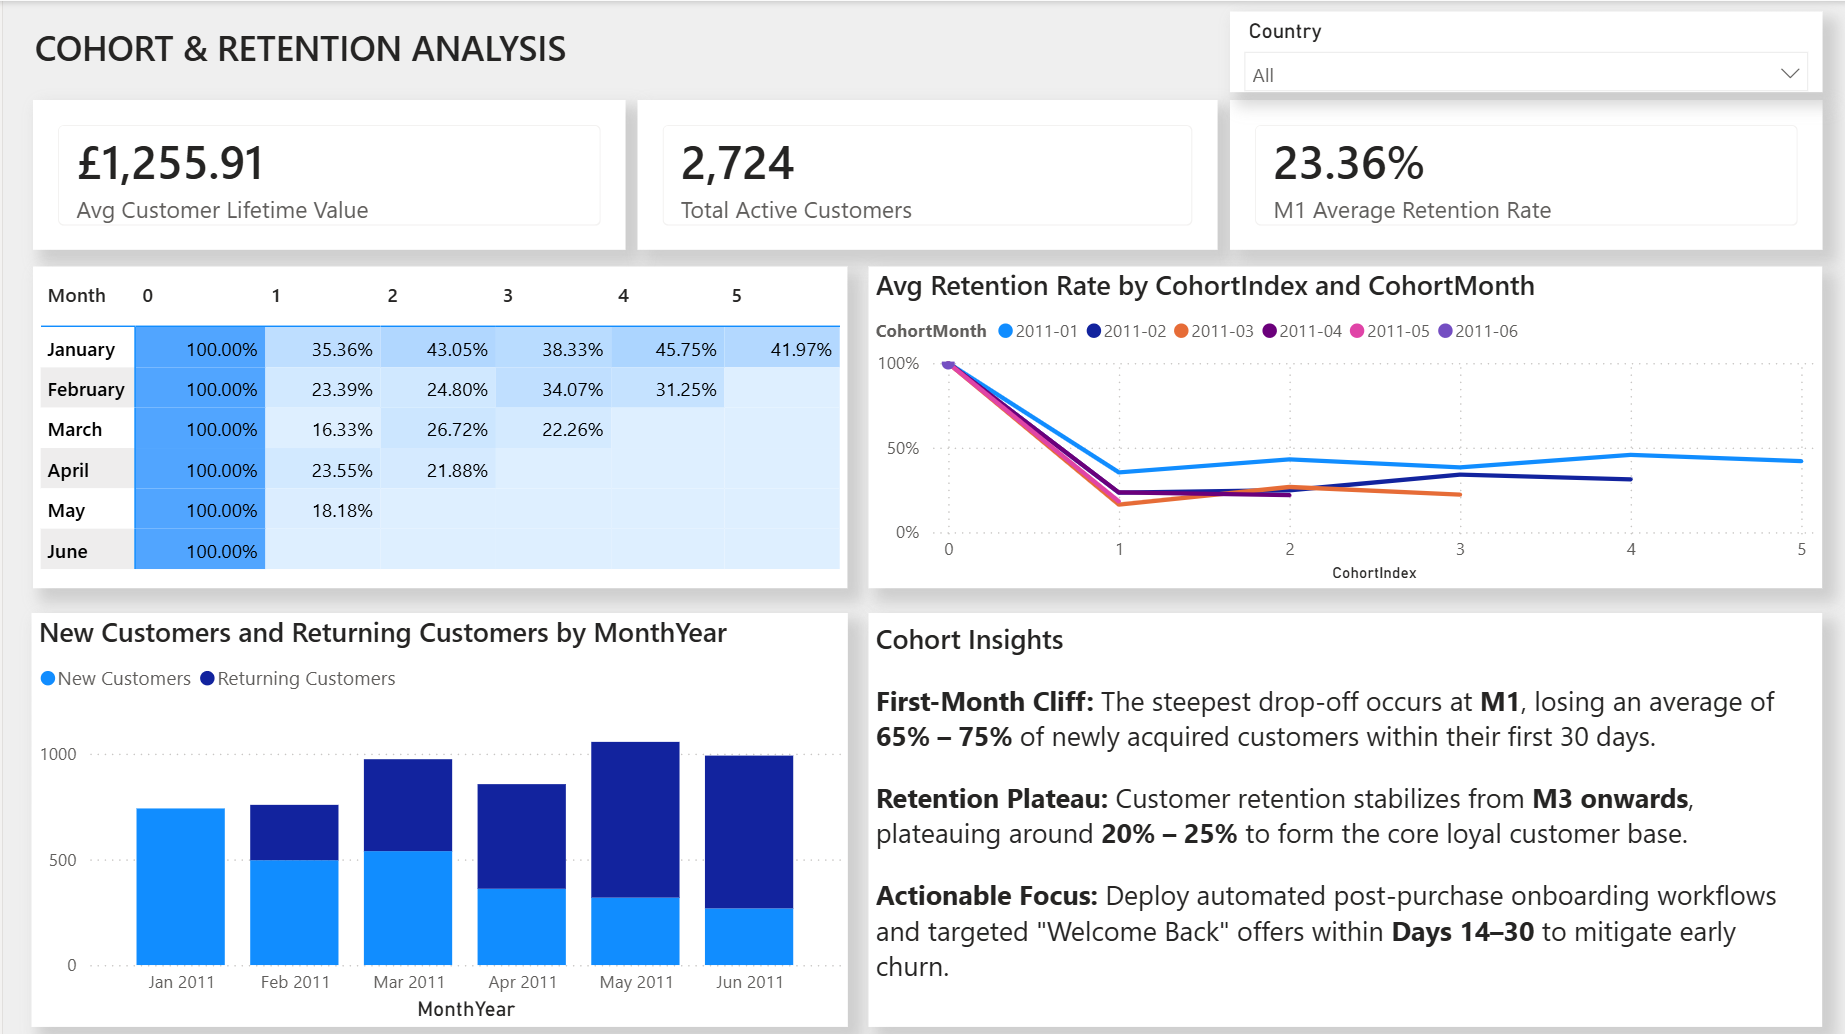

The page's visual inventory and layout, read from the dashboard file:
{"tool":"powerbi","page":{"name":"Cohort Analysis","canvas":[1280,720],"ordinal":3},"visuals":[{"type":"textbox","box":[10.9,10.9,401.6,49.4],"z":0},{"type":"cardVisual","fields":{"Data":["Measures Folder.Avg CLV"]},"box":[20.5,60.3,411.3,112.2],"z":1000},{"type":"cardVisual","fields":{"Data":["Measures Folder.Total Active Customers"]},"box":[440.2,60.3,402.8,112.2],"z":2000},{"type":"cardVisual","fields":{"Data":["Measures Folder.M1 Avg Retention"]},"box":[851.5,60.3,411.3,112.2],"z":3000},{"type":"pivotTable","fields":{"Columns":["Dim_Cohort.CohortIndex"],"Values":["Sum(Dim_Cohort.RetentionRate)"],"Rows":["Dim_Cohort.CohortMonth.Variation.Date Hierarchy.Month"]},"box":[20.5,184.5,565.6,223.1],"z":4000},{"type":"lineChart","fields":{"Category":["Dim_Cohort.CohortIndex"],"Y":["Measures Folder.Avg Retention Rate"],"Series":["Dim_Cohort.CohortMonth"]},"box":[600.6,184.5,662.1,223.1],"z":5000},{"type":"columnChart","fields":{"Category":["Dim_Date.MonthYear"],"Y":["Measures Folder.New Customers","Measures Folder.Returning Customers"]},"box":[19.3,424.5,566.8,287],"z":6000},{"type":"textbox","box":[600.6,424.5,662.1,287],"z":7000}]}

Visuals, with their boxes in screenshot pixels (x1, y1, x2, y2), scaled from the page's 1280x720 canvas onto the 1845x1034 screenshot:
textbox: bbox=(16, 16, 595, 87)
cardVisual - Measures Folder.Avg CLV: bbox=(30, 87, 622, 248)
cardVisual - Measures Folder.Total Active Customers: bbox=(635, 87, 1215, 248)
cardVisual - Measures Folder.M1 Avg Retention: bbox=(1227, 87, 1820, 248)
pivotTable - Dim_Cohort.CohortIndex x Sum(Dim_Cohort.RetentionRate): bbox=(30, 265, 845, 585)
lineChart - Dim_Cohort.CohortIndex x Measures Folder.Avg Retention Rate: bbox=(866, 265, 1820, 585)
columnChart - Dim_Date.MonthYear x Measures Folder.New Customers: bbox=(28, 610, 845, 1022)
textbox: bbox=(866, 610, 1820, 1022)
